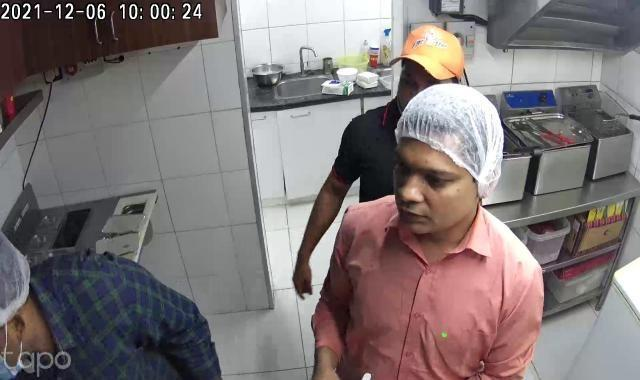gloves: (398, 83, 506, 202), (394, 26, 479, 86), (0, 226, 34, 326)
no_apron: (289, 249, 321, 303)
no_hairnet: (389, 185, 475, 240), (385, 82, 430, 113)
